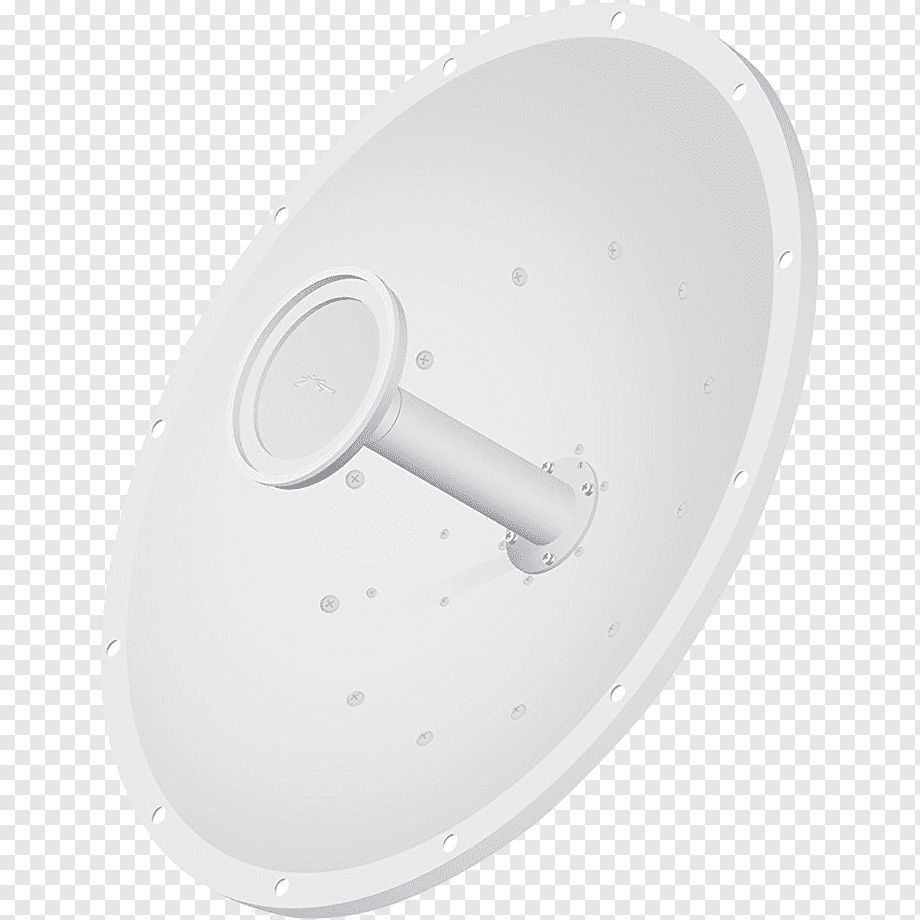ba: (42, 9, 851, 919)
